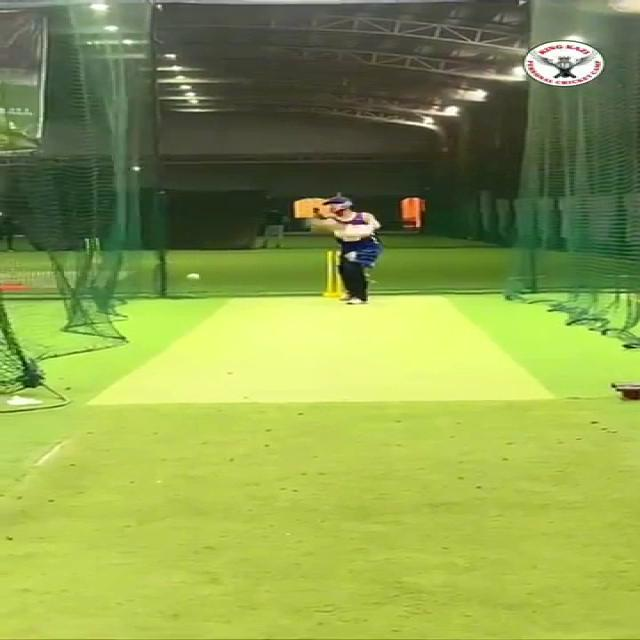batsman: (302, 194, 388, 306)
